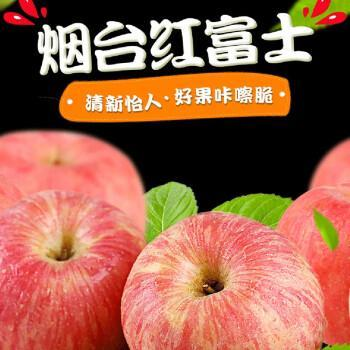apple: (122, 212, 326, 349), (1, 191, 148, 349), (279, 187, 350, 349)
